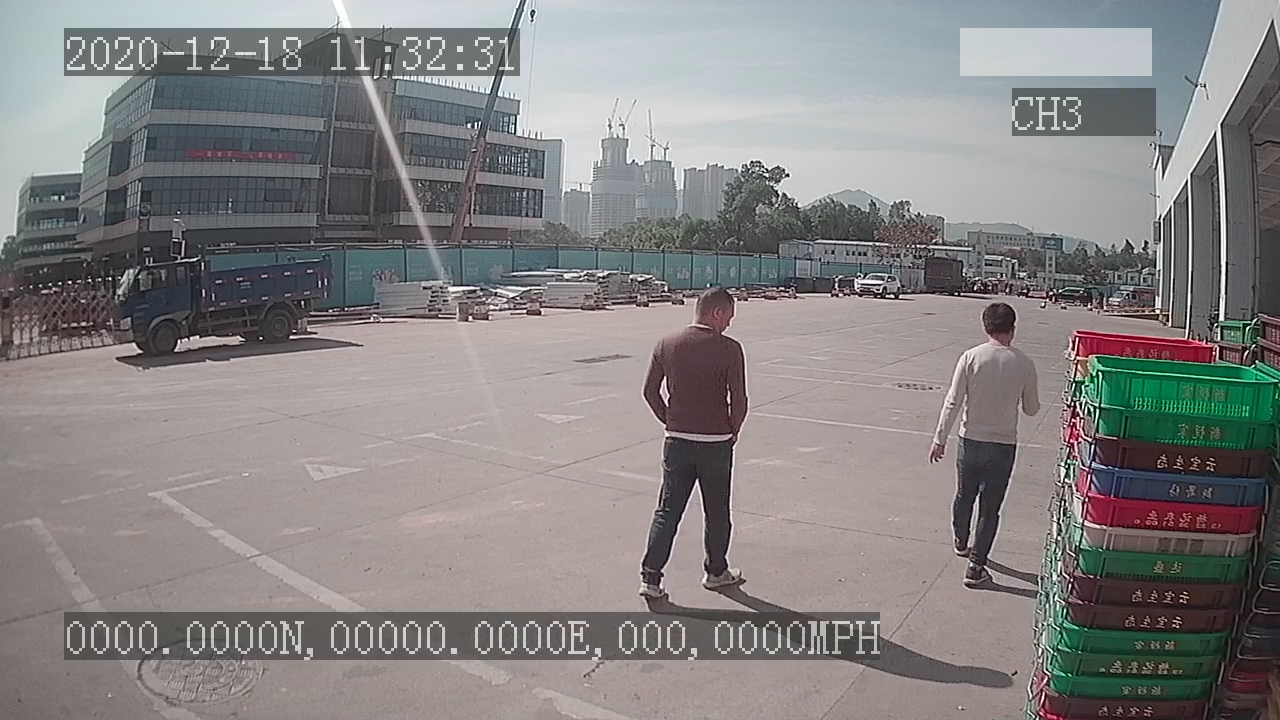person: (635, 284, 749, 598), (925, 296, 1039, 590)
